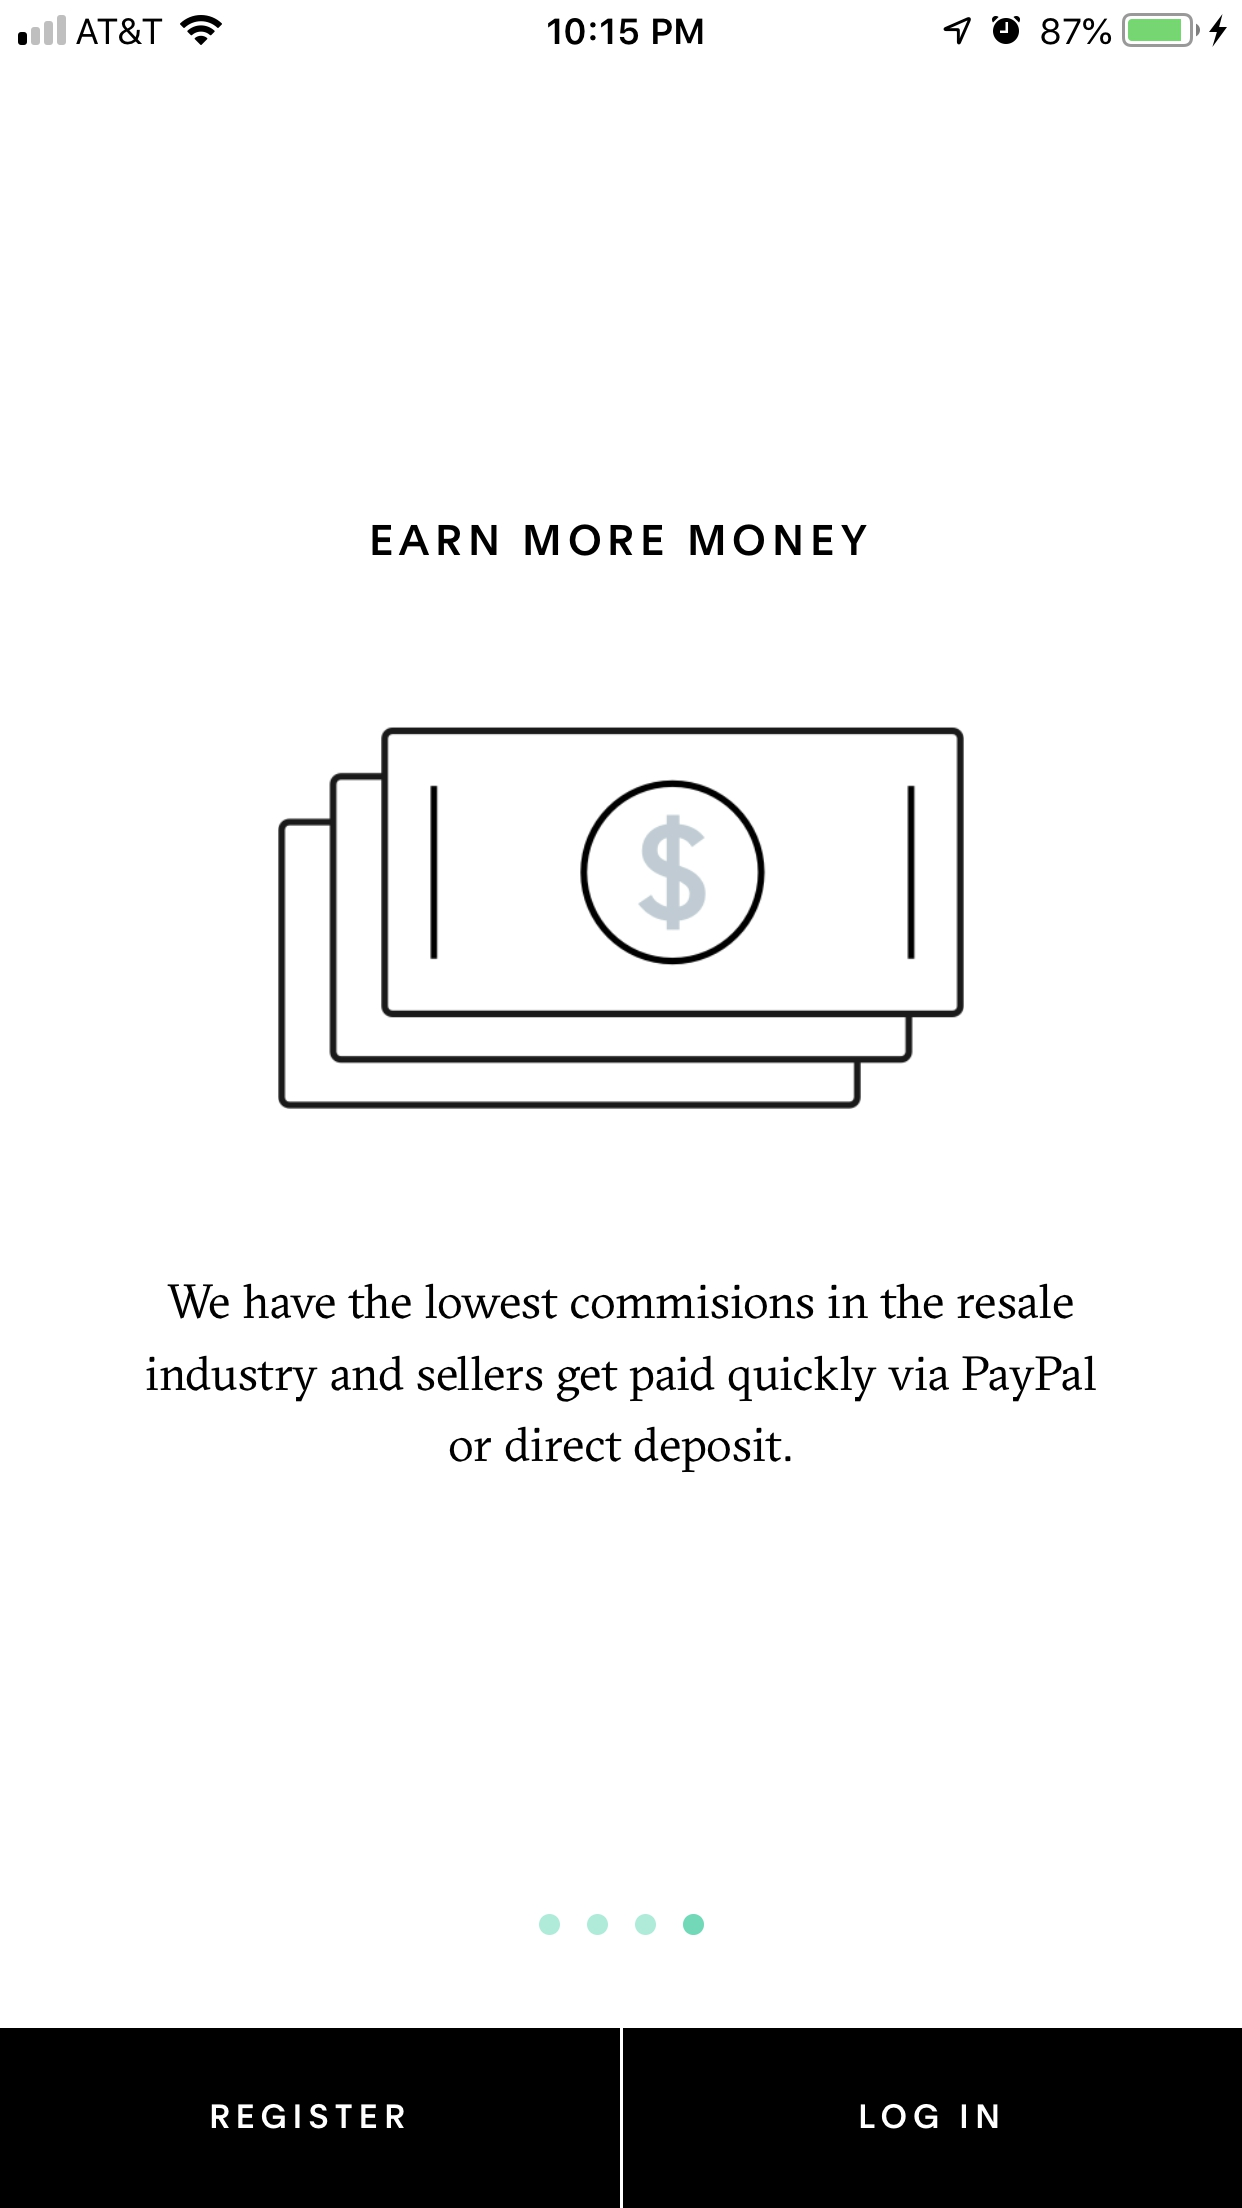Image: (278, 726, 964, 1112)
PageIndicator: (538, 1912, 707, 1937)
Text: (146, 1281, 1096, 1474), (372, 525, 867, 558)
TextButton: (2, 2028, 622, 2208), (623, 2028, 1242, 2208)
UpperTaskBar: (2, 2, 1242, 49)
